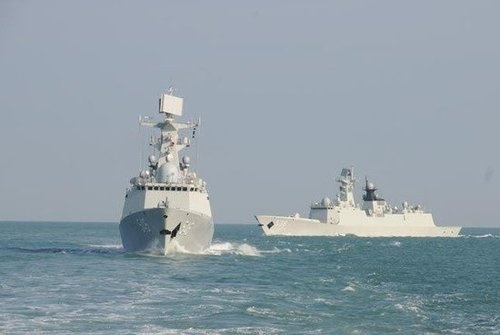warship: (111, 83, 221, 268), (255, 162, 466, 238)
